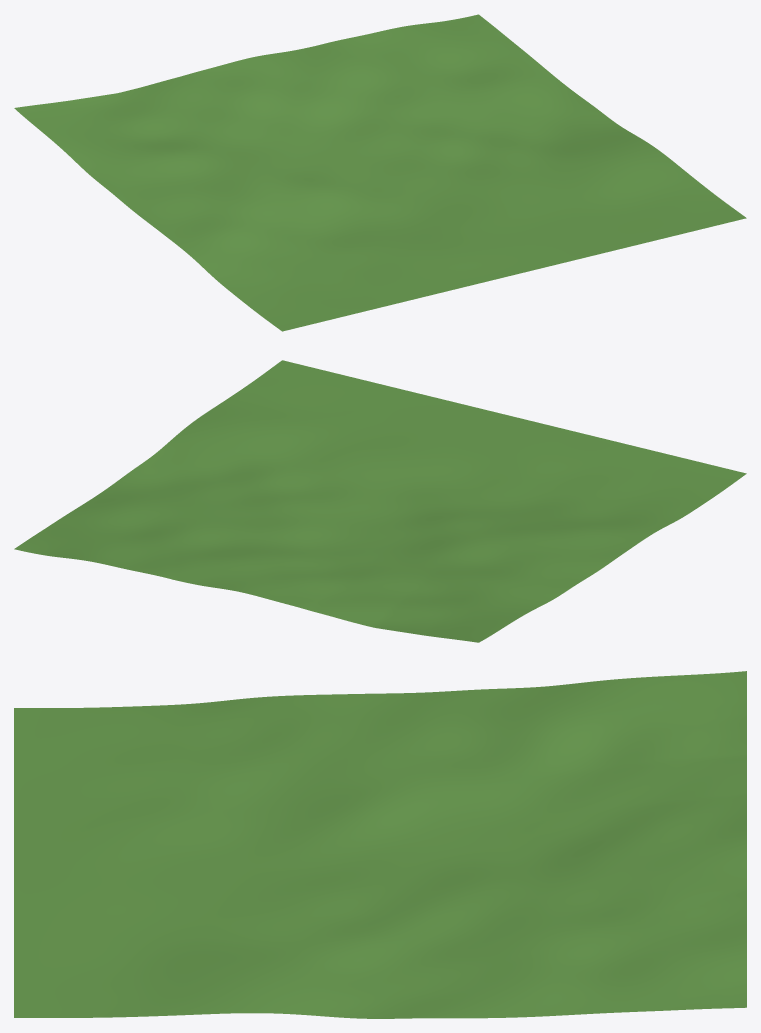
The model's file is SM_Terrain_05_07.fbx.
The picture shows the model from 3 angles, top to bottom: view 1: azimuth 30°, elevation 25°; view 2: azimuth 150°, elevation 25°; view 3: azimuth 270°, elevation 25°; orthographic projection. The views are drawn at different scales.
Visible parts, largest first — view 1: SM_Terrain_05_07; view 2: SM_Terrain_05_07; view 3: SM_Terrain_05_07.
Part boxes in pixels (x1,y1,x2,y2): SM_Terrain_05_07: [14, 14, 746, 331]; SM_Terrain_05_07: [14, 360, 746, 642]; SM_Terrain_05_07: [14, 671, 746, 1018].
Bounding box in the file's own units: 384 × 22.96 × 384.
